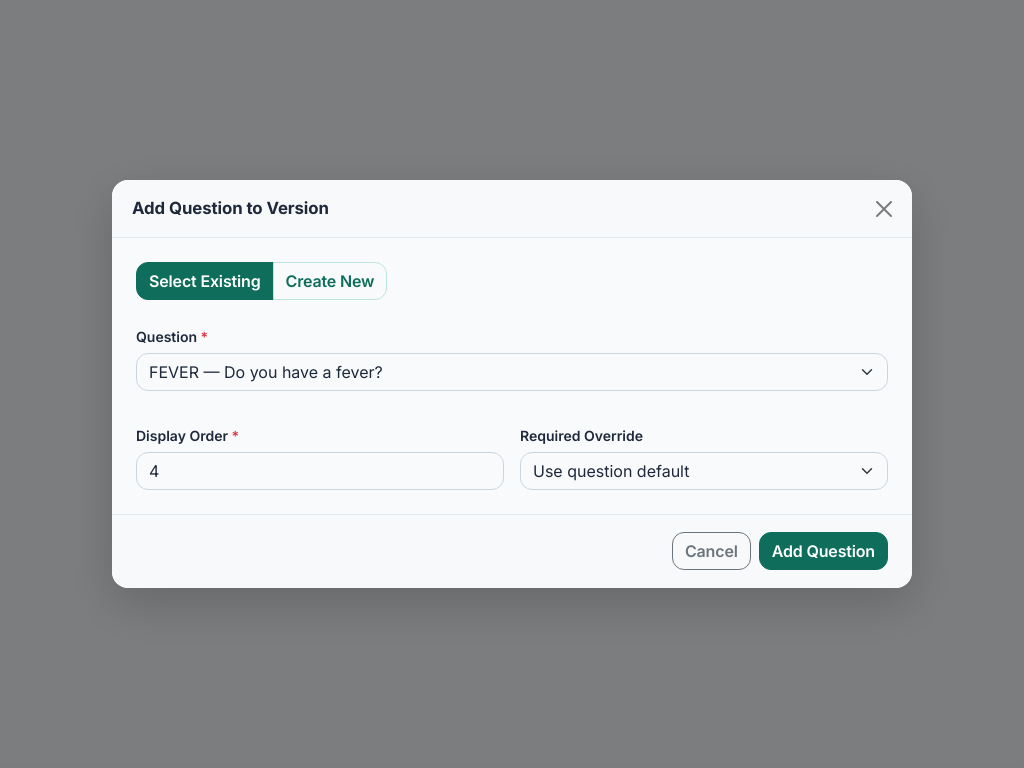
it: AddQuestionnaireItemModal › validates choice option metadata before invoking orchestration
Click the button "Create New" at {"x": 330, "y": 281}, box [272,262,387,300]
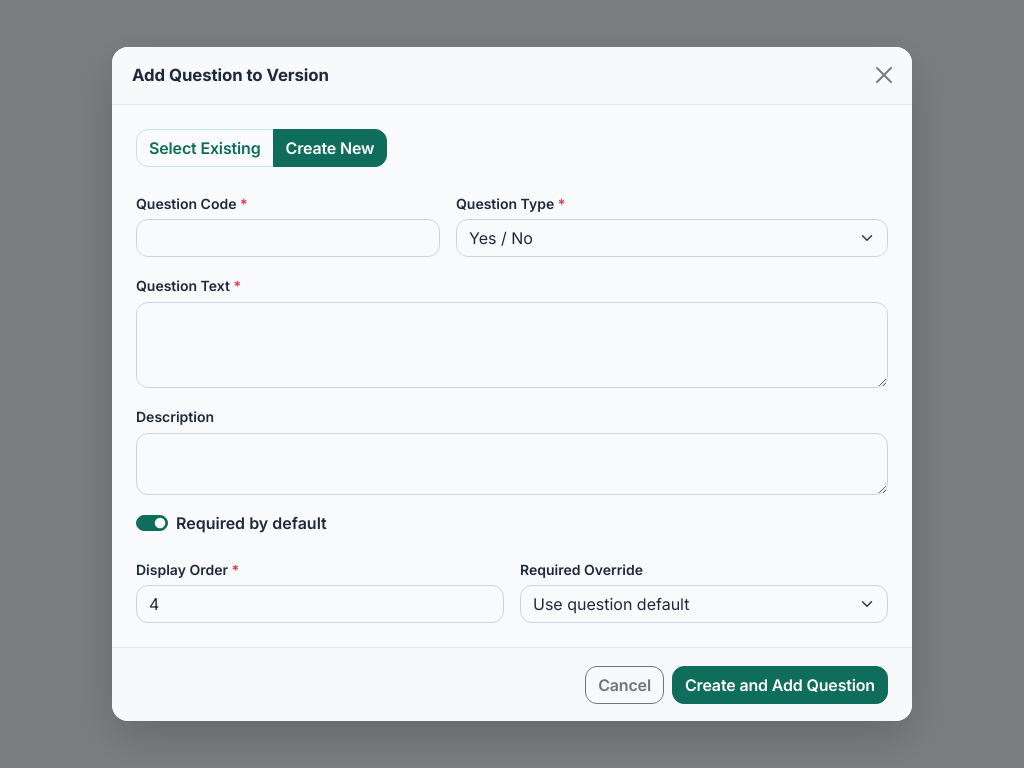
Type "NEW_CODE" into the field labelled "Question Code *" at {"x": 288, "y": 238}, box [136,219,440,257]
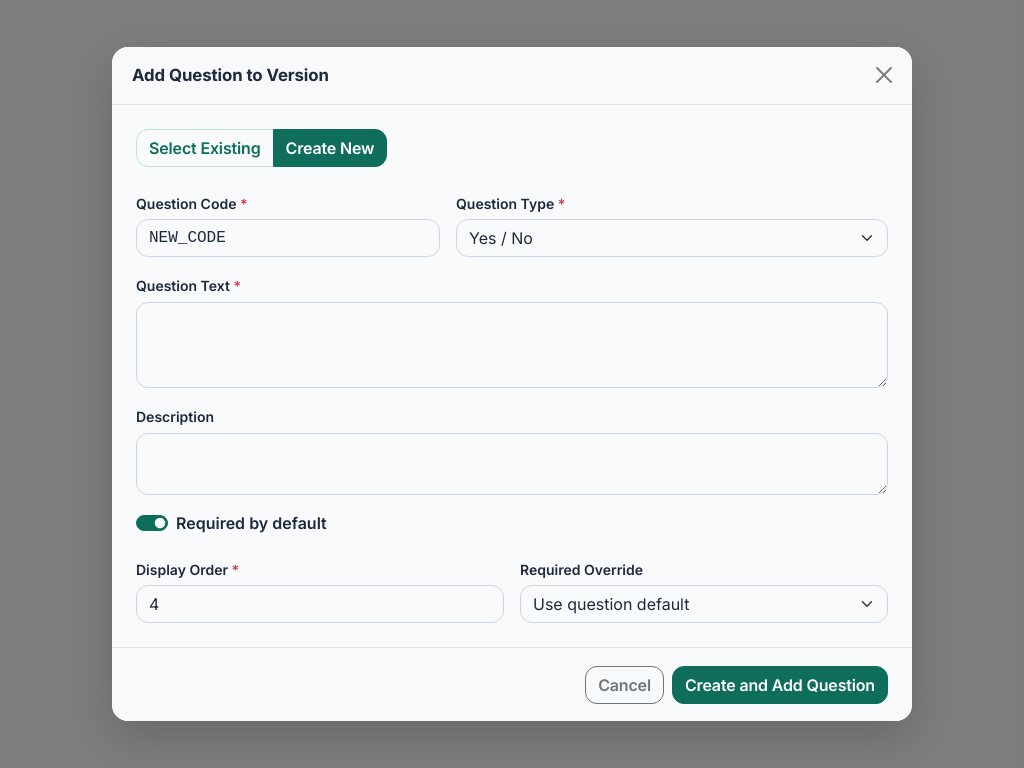
Type "New question?" into the text box labelled "Question Text *" at {"x": 512, "y": 345}, box [136,302,888,388]
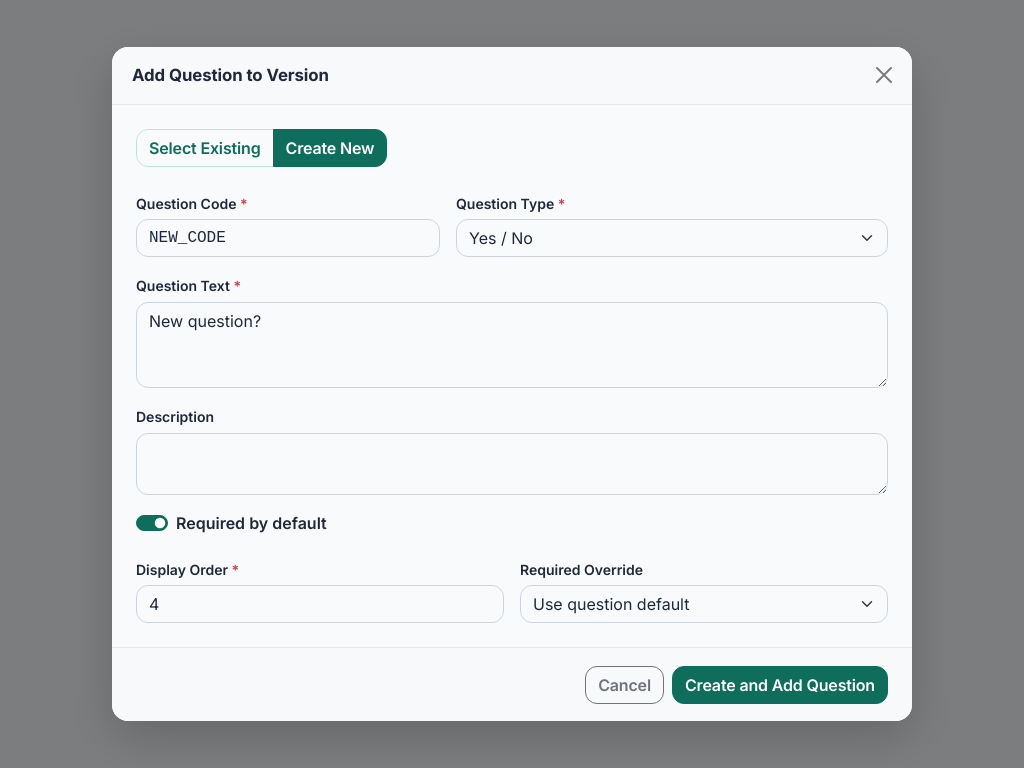
Select "Single Choice" in the dropdown labelled "Question Type *" at {"x": 672, "y": 238}, box [456,219,888,257]
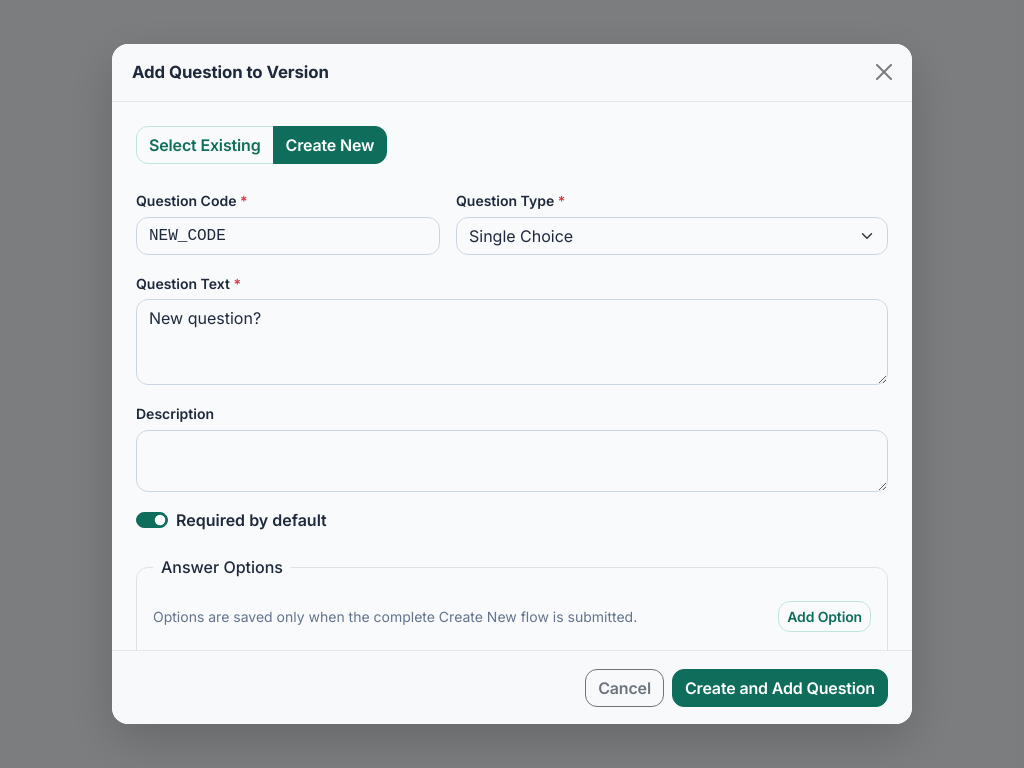
Click the button "Create and Add Question" at {"x": 780, "y": 688}, box [672,669,888,707]
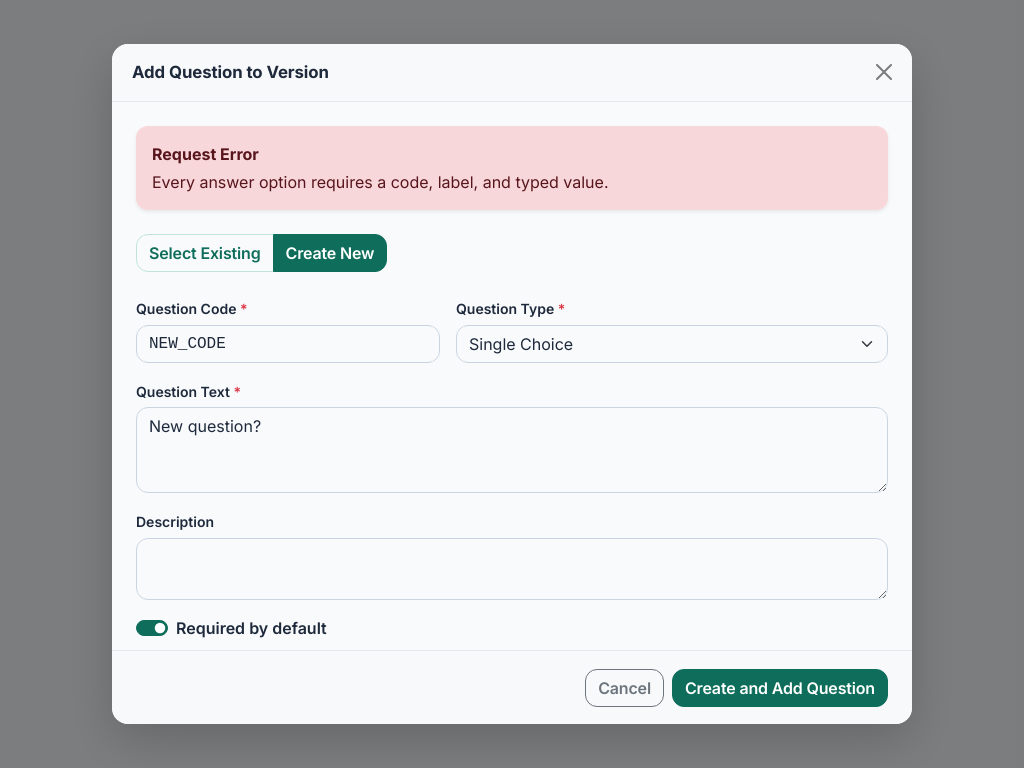
Expected: the message shows "Every answer option requires", [152,172,608,192]
